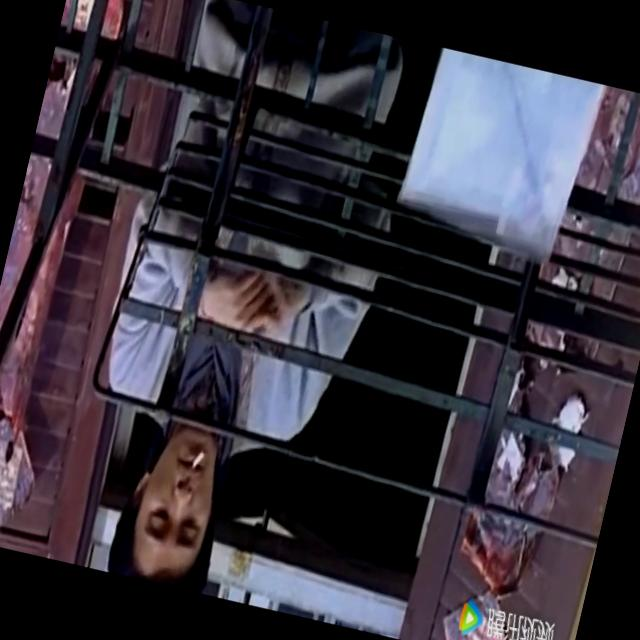smoke: (190, 444, 208, 475)
